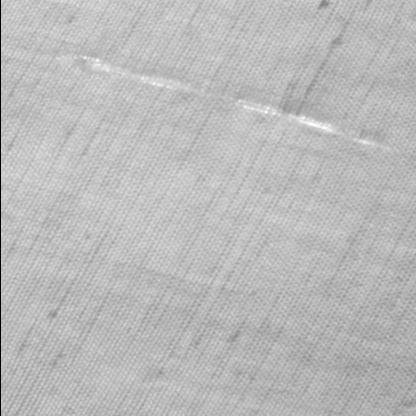thread error: (64, 53, 403, 156)
